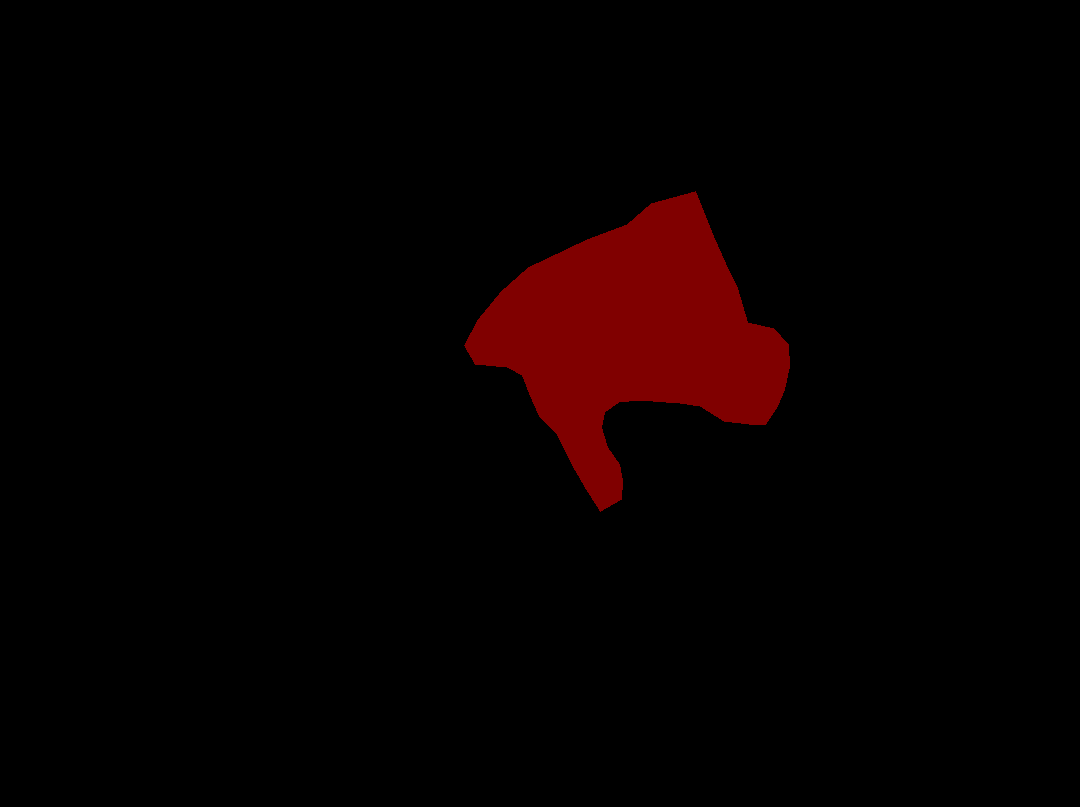fire: (464, 191, 789, 511)
